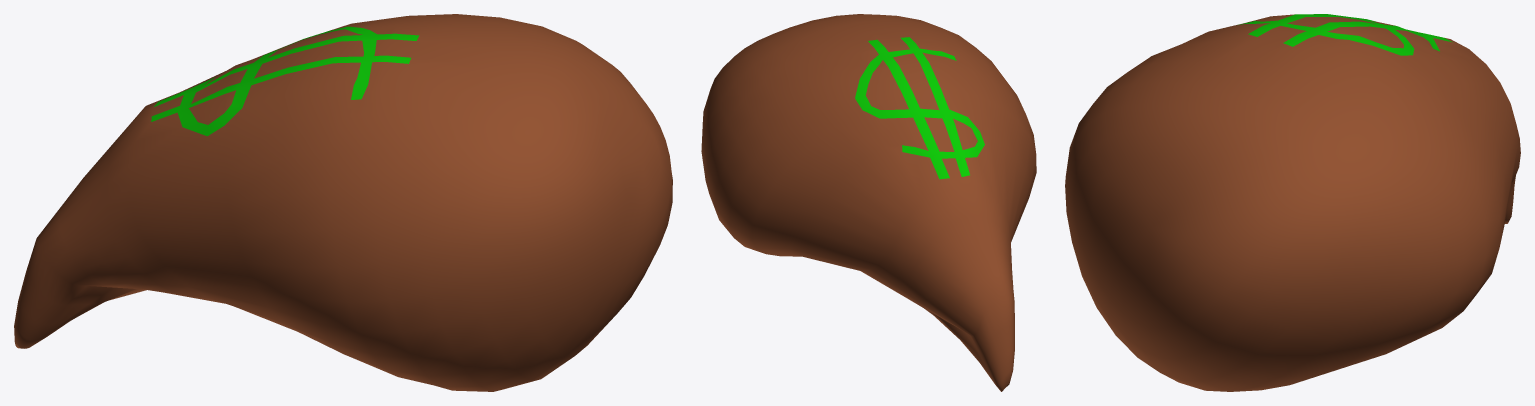
File: Thief_Bag.fbx
The picture shows the model from 3 angles, left to right: view 1: azimuth 30°, elevation 25°; view 2: azimuth 150°, elevation 25°; view 3: azimuth 270°, elevation 25°; orthographic projection. The views are drawn at different scales.
Parts seen in each view (by area): view 1: Thief_Bag; view 2: Thief_Bag; view 3: Thief_Bag.
Part boxes in pixels (x1,y1,x2,y2): Thief_Bag: [14, 14, 672, 391]; Thief_Bag: [701, 14, 1036, 391]; Thief_Bag: [1065, 14, 1520, 391].
Size of the model in its own units: 129 by 77.22 by 101.
Materials: 1 (1 with a texture image).
